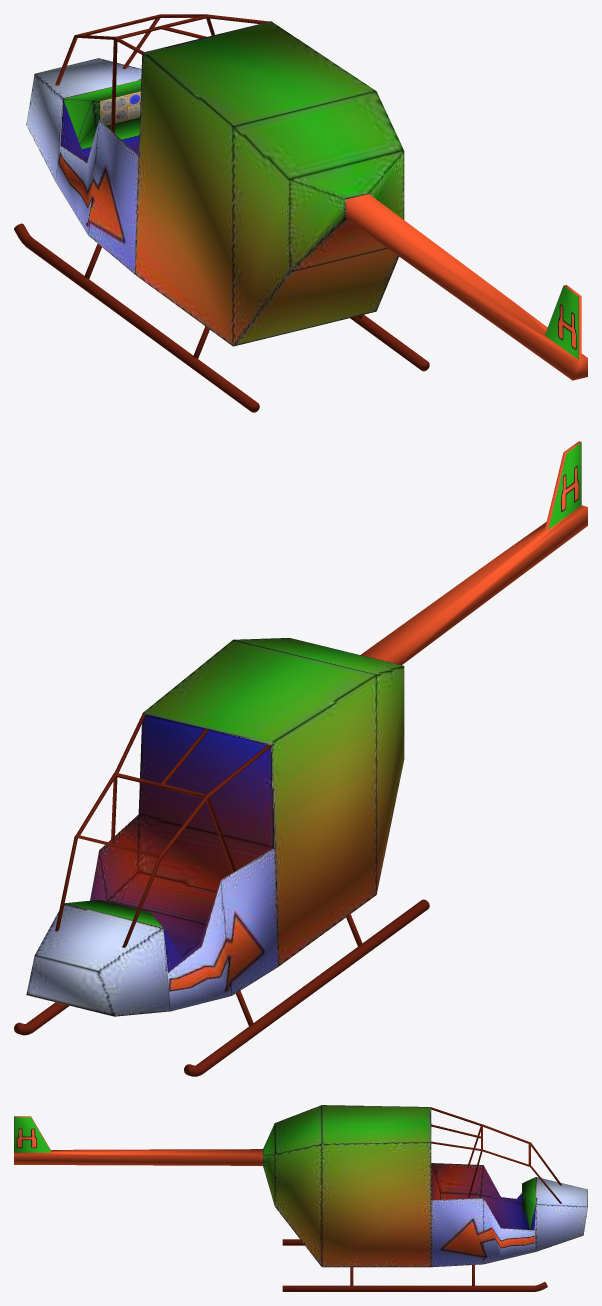
The model's file is heli_hi.obj.
3 renders of one model, top to bottom at view 1: azimuth 30°, elevation 25°; view 2: azimuth 150°, elevation 25°; view 3: azimuth 270°, elevation 25°, orthographic. The views are drawn at different scales.
Visible parts, largest first — view 1: cube1, cylinder4, cube3; view 2: cube1, cylinder4, cube3; view 3: cube1, cylinder4, cube3.
Boxes of the visible parts, left/top/right/bottom form: cube1: left=26, top=21, right=587, bottom=380; cylinder4: left=14, top=223, right=429, bottom=412; cube3: left=55, top=14, right=269, bottom=133; cube1: left=26, top=441, right=587, bottom=1016; cylinder4: left=14, top=899, right=429, bottom=1076; cube3: left=55, top=714, right=270, bottom=947; cube1: left=14, top=1105, right=587, bottom=1267; cylinder4: left=282, top=1239, right=547, bottom=1291; cube3: left=431, top=1107, right=561, bottom=1203.
Bounding box in the file's own units: 0.74 × 1.07 × 3.67.
